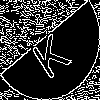K: (25, 25, 72, 81)
